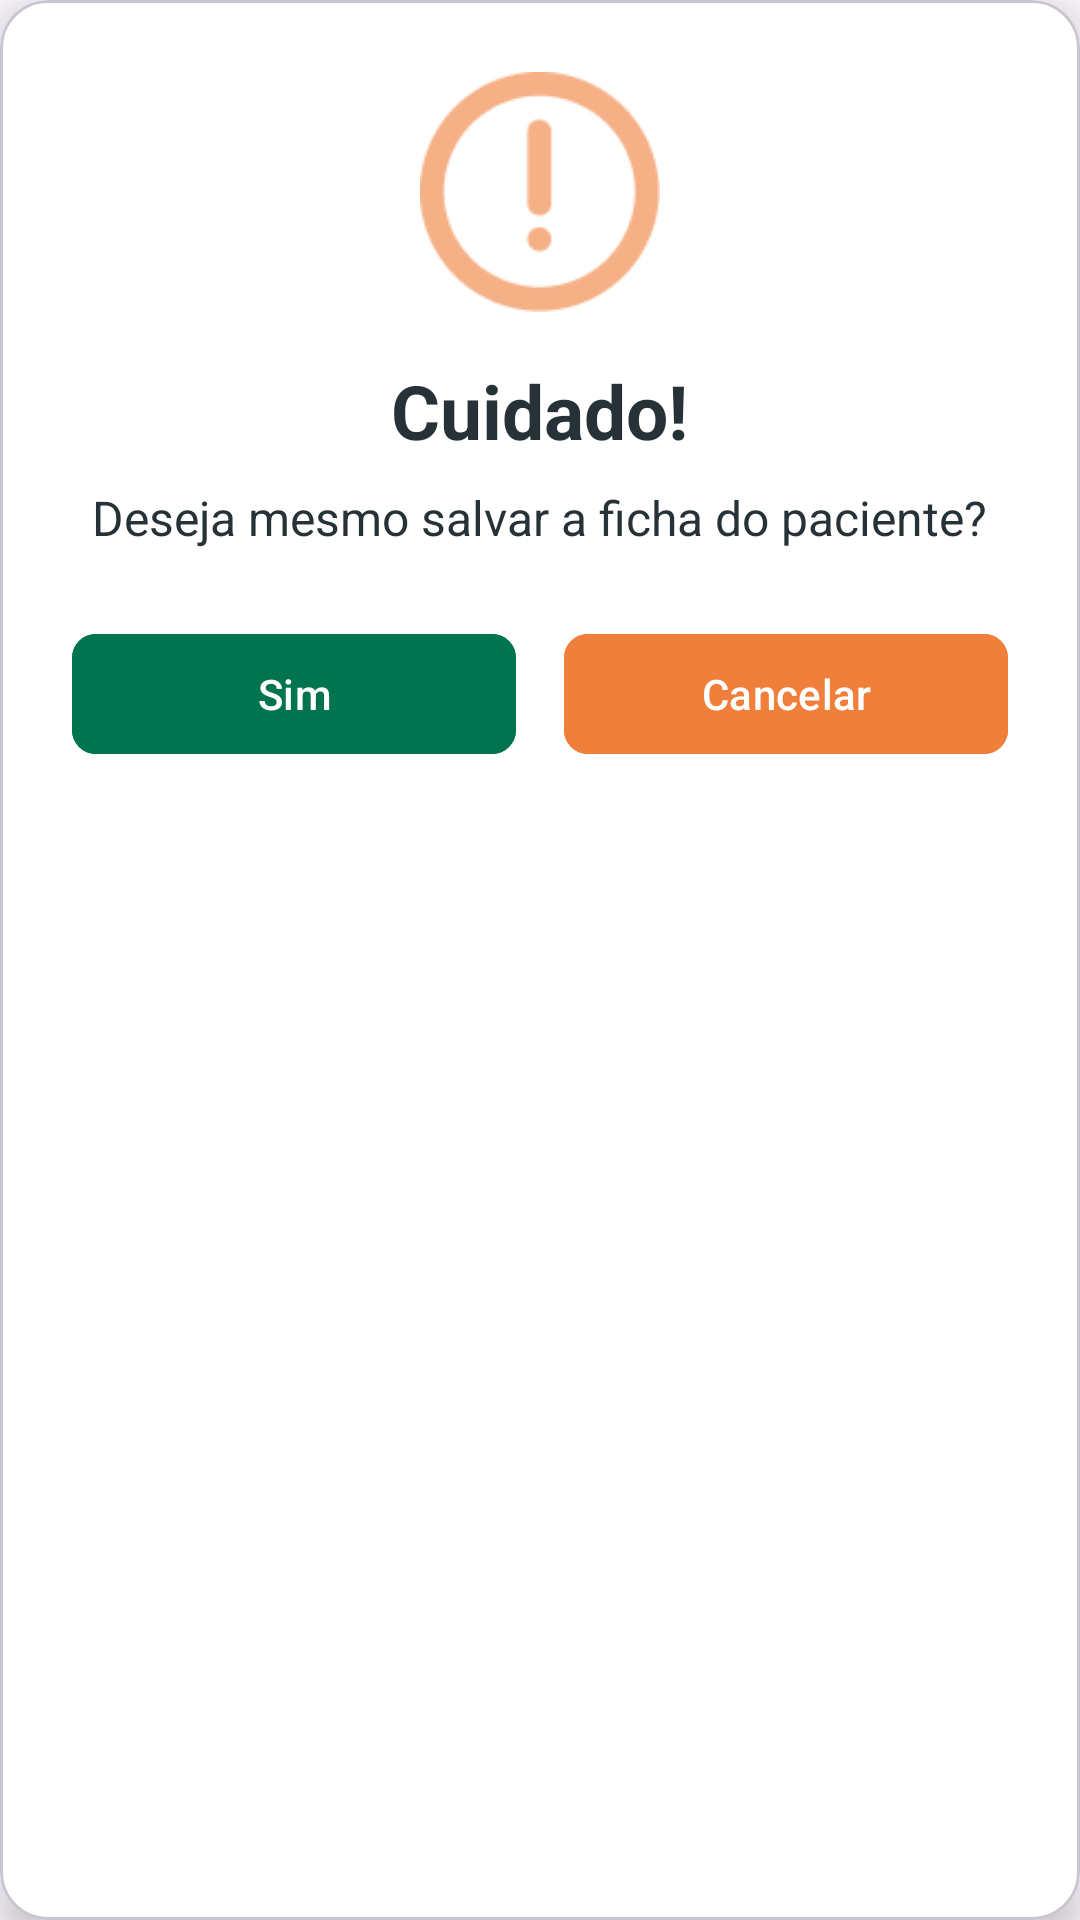

Named icons in this screenshot (1080*1920) and their centers, point (x, y):
Aviso: point (540, 192)
